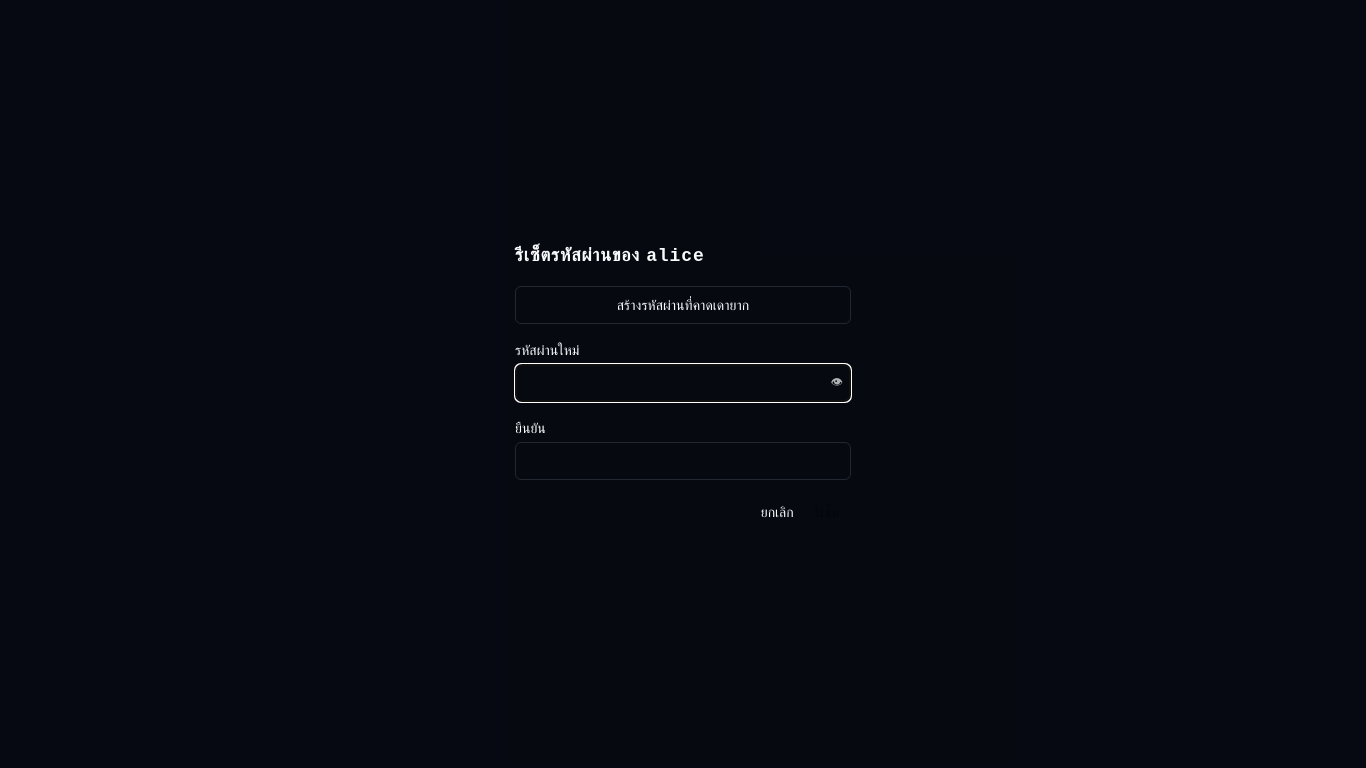
ResetPasswordModal › generates a password that satisfies the submit gate
Click the button with test id "generate-password" at (683, 305), box [515,286,851,324]
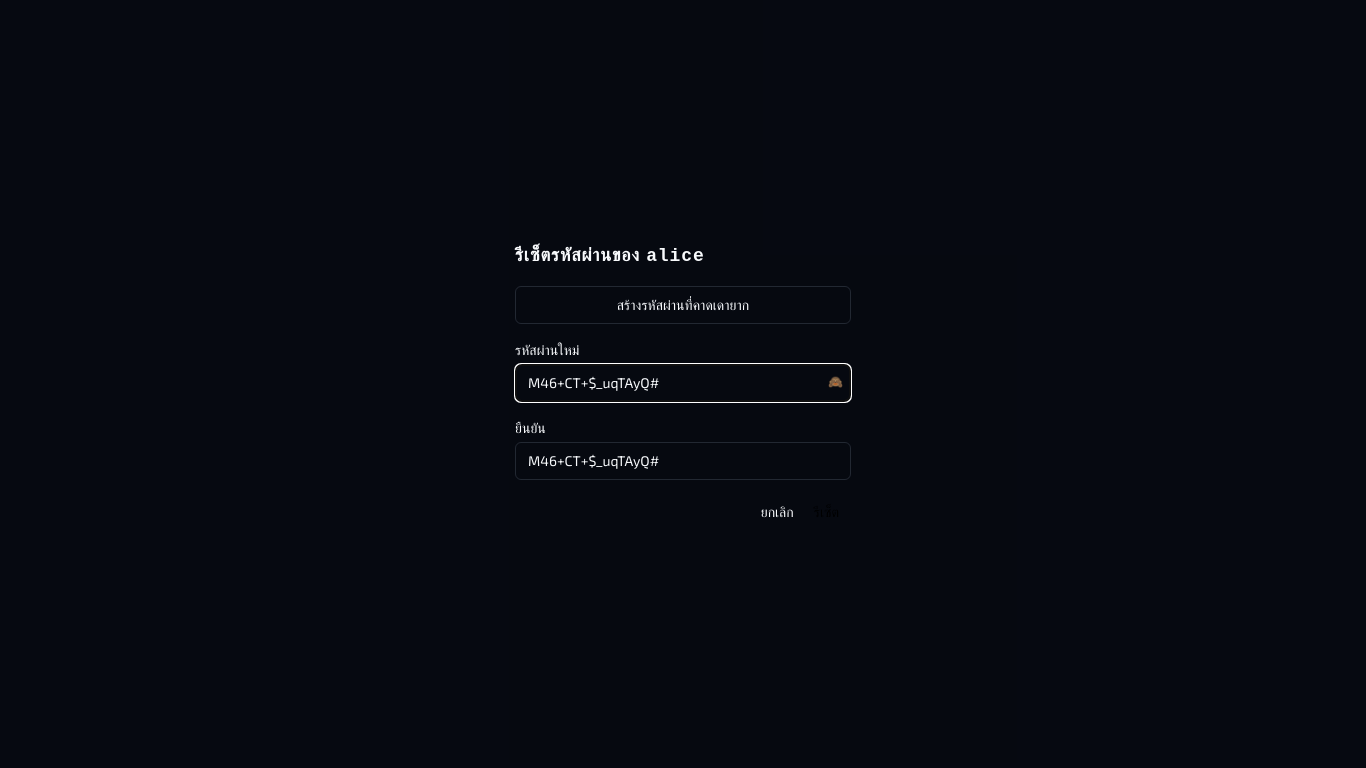
Check: the button named "ซ่อน" is shown, box [828,373,843,389]
